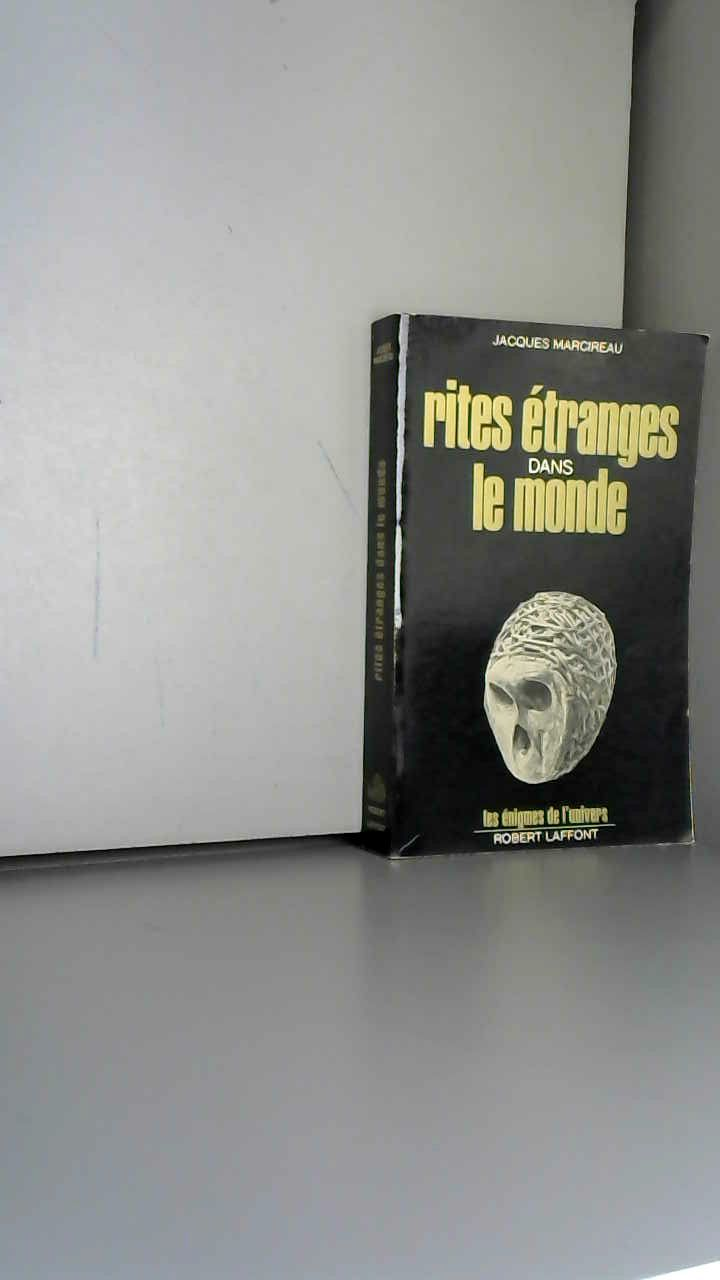book: (340, 280, 720, 896)
